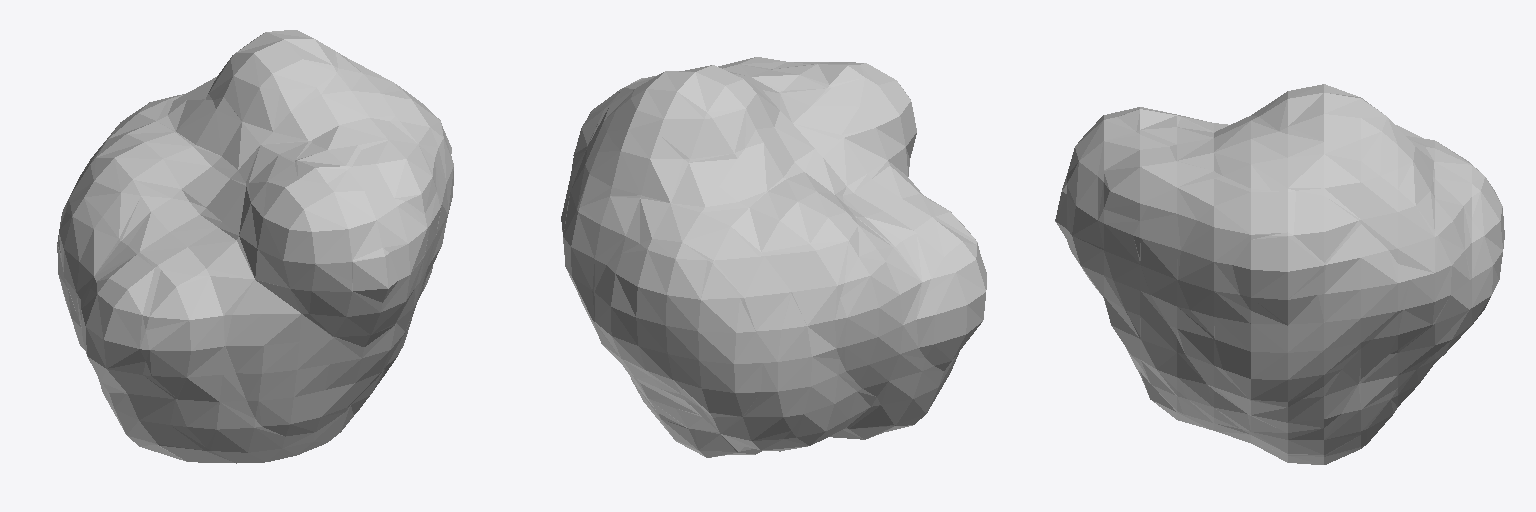
The model's file is 1uky_cms.obj.
3 views of the same model, side by side, from view 1: azimuth 30°, elevation 25°; view 2: azimuth 150°, elevation 25°; view 3: azimuth 270°, elevation 25° (orthographic).
Bounding box in the file's own units: 53.28 × 51.62 × 55.96.